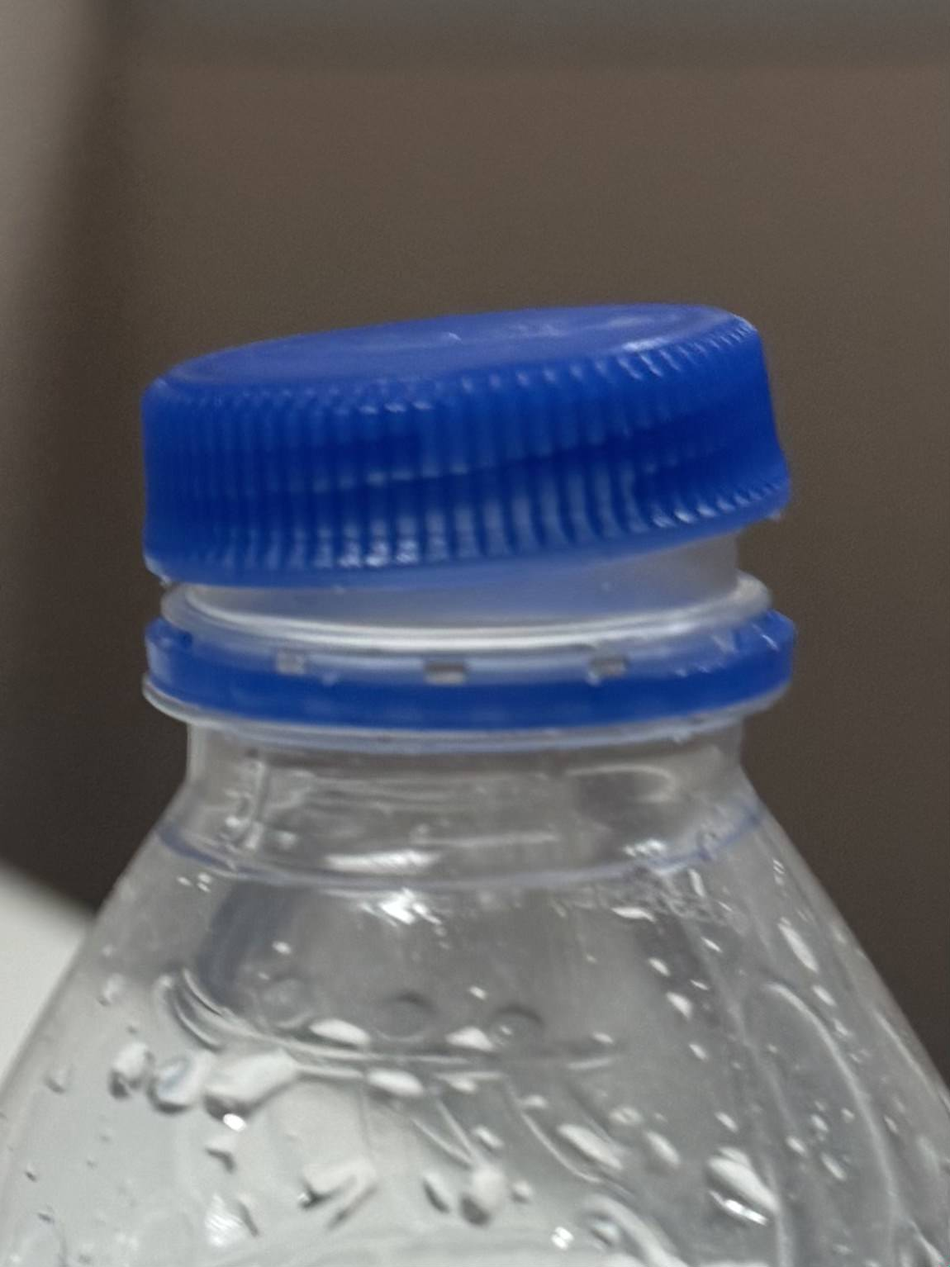half_cap: (124, 290, 810, 749)
